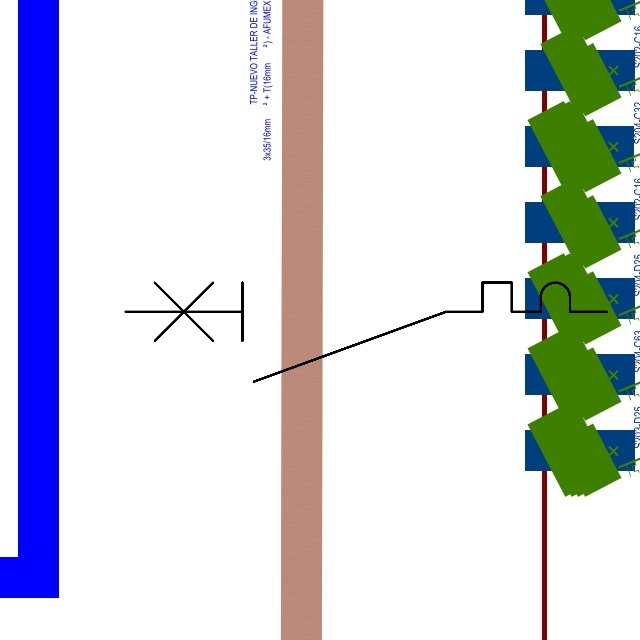interruptor_termomagnetico: (113, 270, 619, 393)
